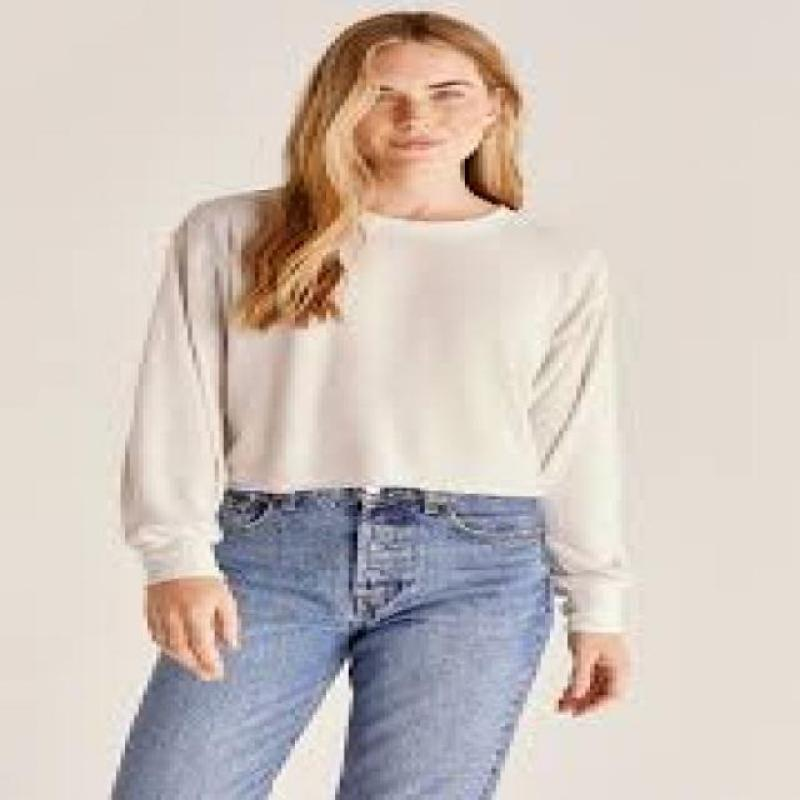sweater: (120, 182, 634, 632)
trousers: (110, 488, 554, 800)
